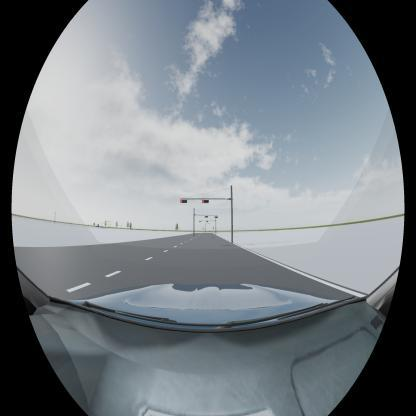Red Light: (201, 200, 209, 204), (180, 200, 187, 204)
